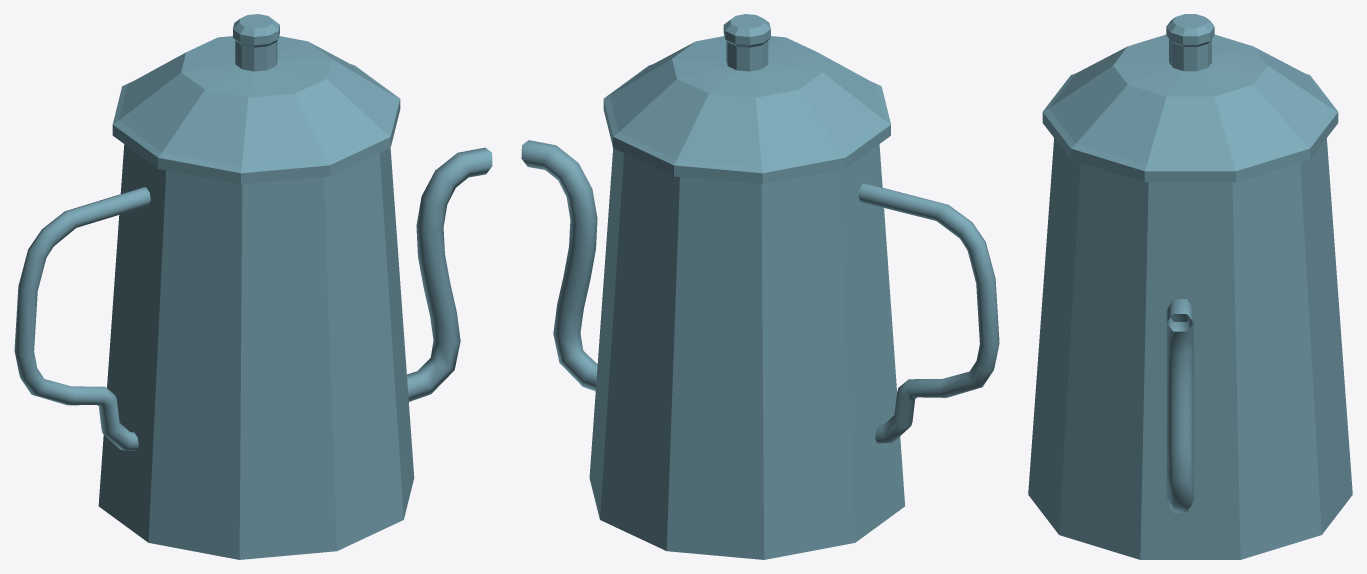
File: Kettle.fbx
3 renders of one model, left to right at view 1: azimuth 30°, elevation 25°; view 2: azimuth 150°, elevation 25°; view 3: azimuth 270°, elevation 25°, orthographic.
Visible parts, largest first — view 1: NurbsPath; view 2: NurbsPath; view 3: NurbsPath.
Boxes of the visible parts, x1=… form: NurbsPath: x1=14, y1=14, x2=492, y2=559; NurbsPath: x1=521, y1=14, x2=999, y2=559; NurbsPath: x1=1028, y1=14, x2=1352, y2=559.
Size of the model in its own units: 58.84 by 55.95 by 34.76.
